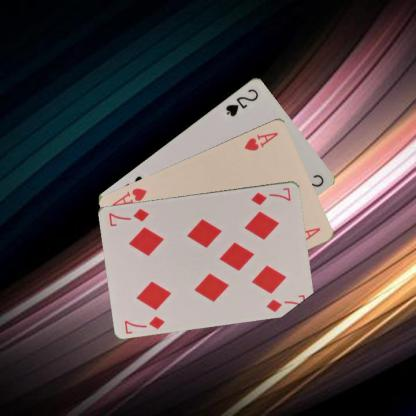2s: (223, 85, 260, 118)
7d: (122, 313, 166, 335), (249, 184, 292, 206)
Ah: (242, 129, 280, 152)
